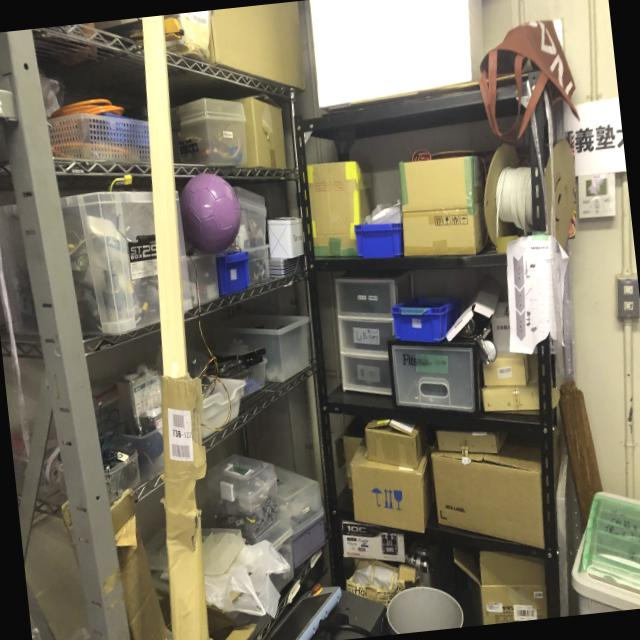purple_ball: (177, 168, 245, 254)
